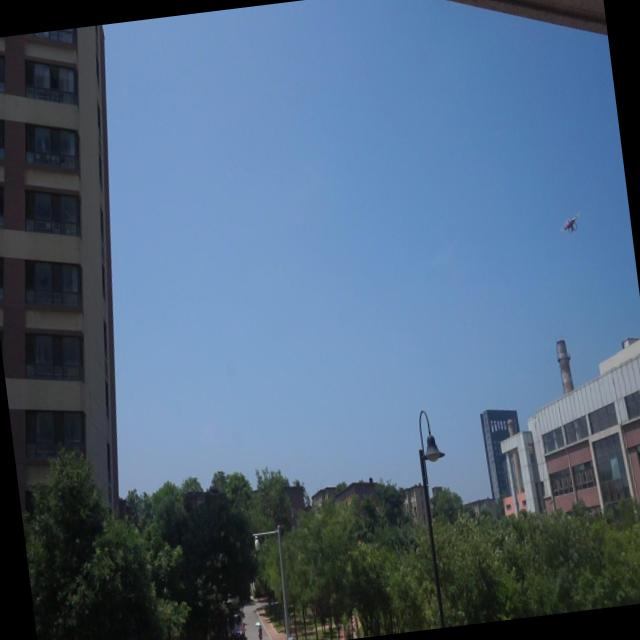drone: (560, 210, 581, 236)
